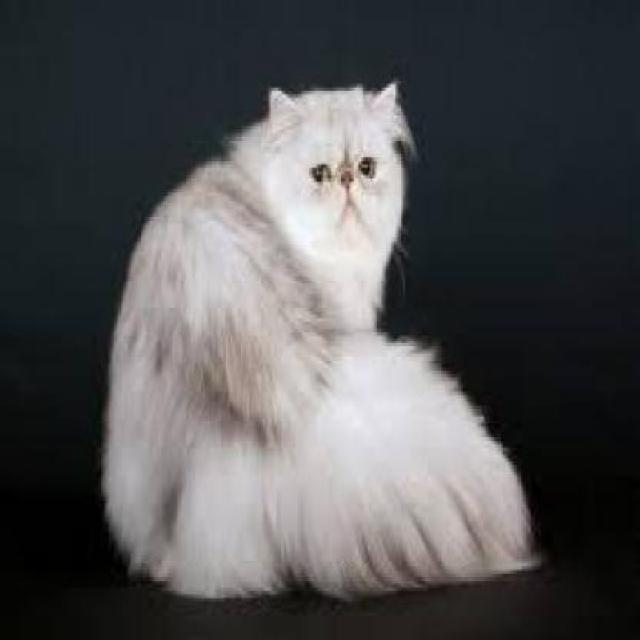cat: (103, 73, 537, 609)
